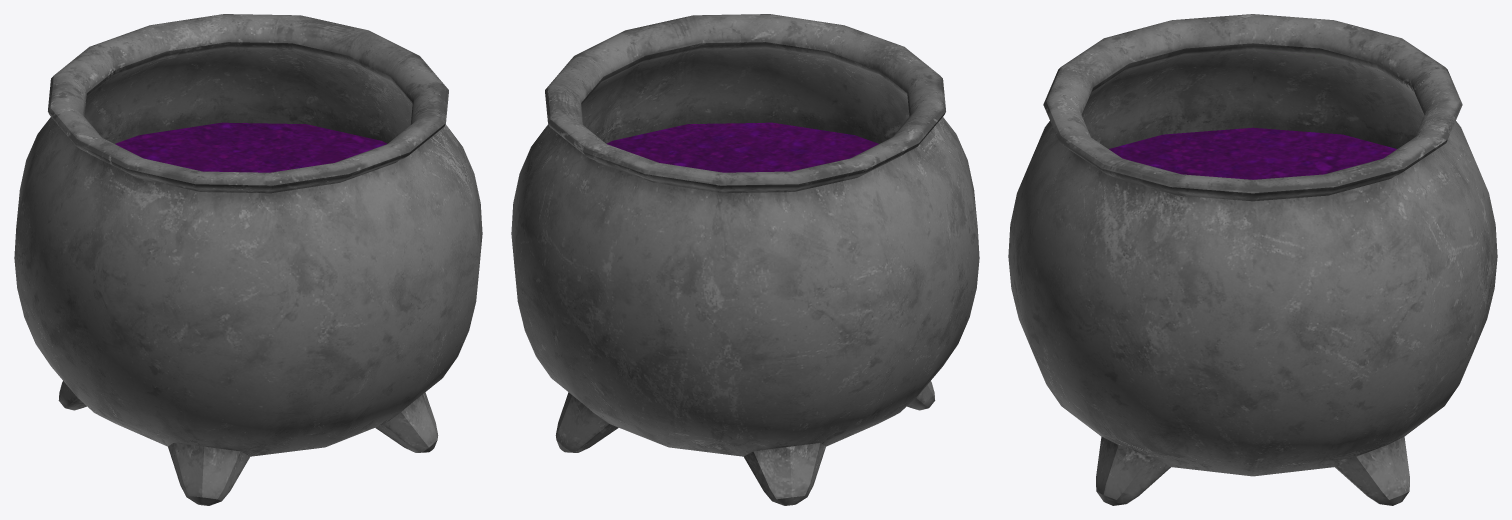
File: caldero.fbx
3 views of the same model, side by side, from view 1: azimuth 30°, elevation 25°; view 2: azimuth 150°, elevation 25°; view 3: azimuth 270°, elevation 25° (orthographic). The views are drawn at different scales.
Parts seen in each view (by area): view 1: Object_0; view 2: Object_0; view 3: Object_0.
Part boxes in pixels (x1,y1,x2,y2): Object_0: (14,14,482,505); Object_0: (511,14,979,505); Object_0: (1008,14,1497,505).
Size of the model in its own units: 381 by 300 by 381.
Materials: 1 (1 with a texture image).
